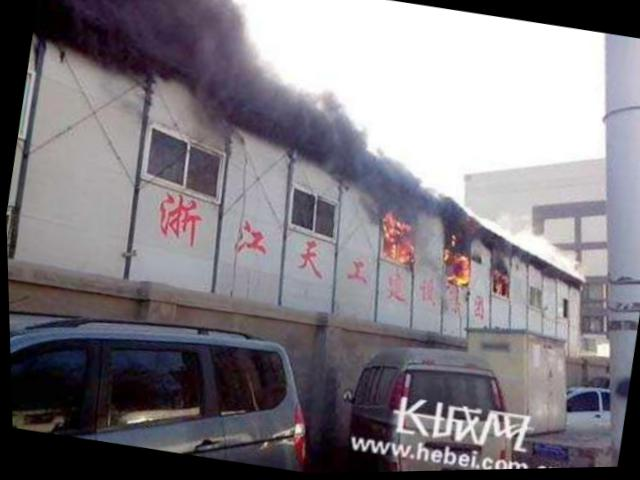fire: (373, 212, 416, 265), (436, 250, 470, 287), (485, 270, 509, 298)
